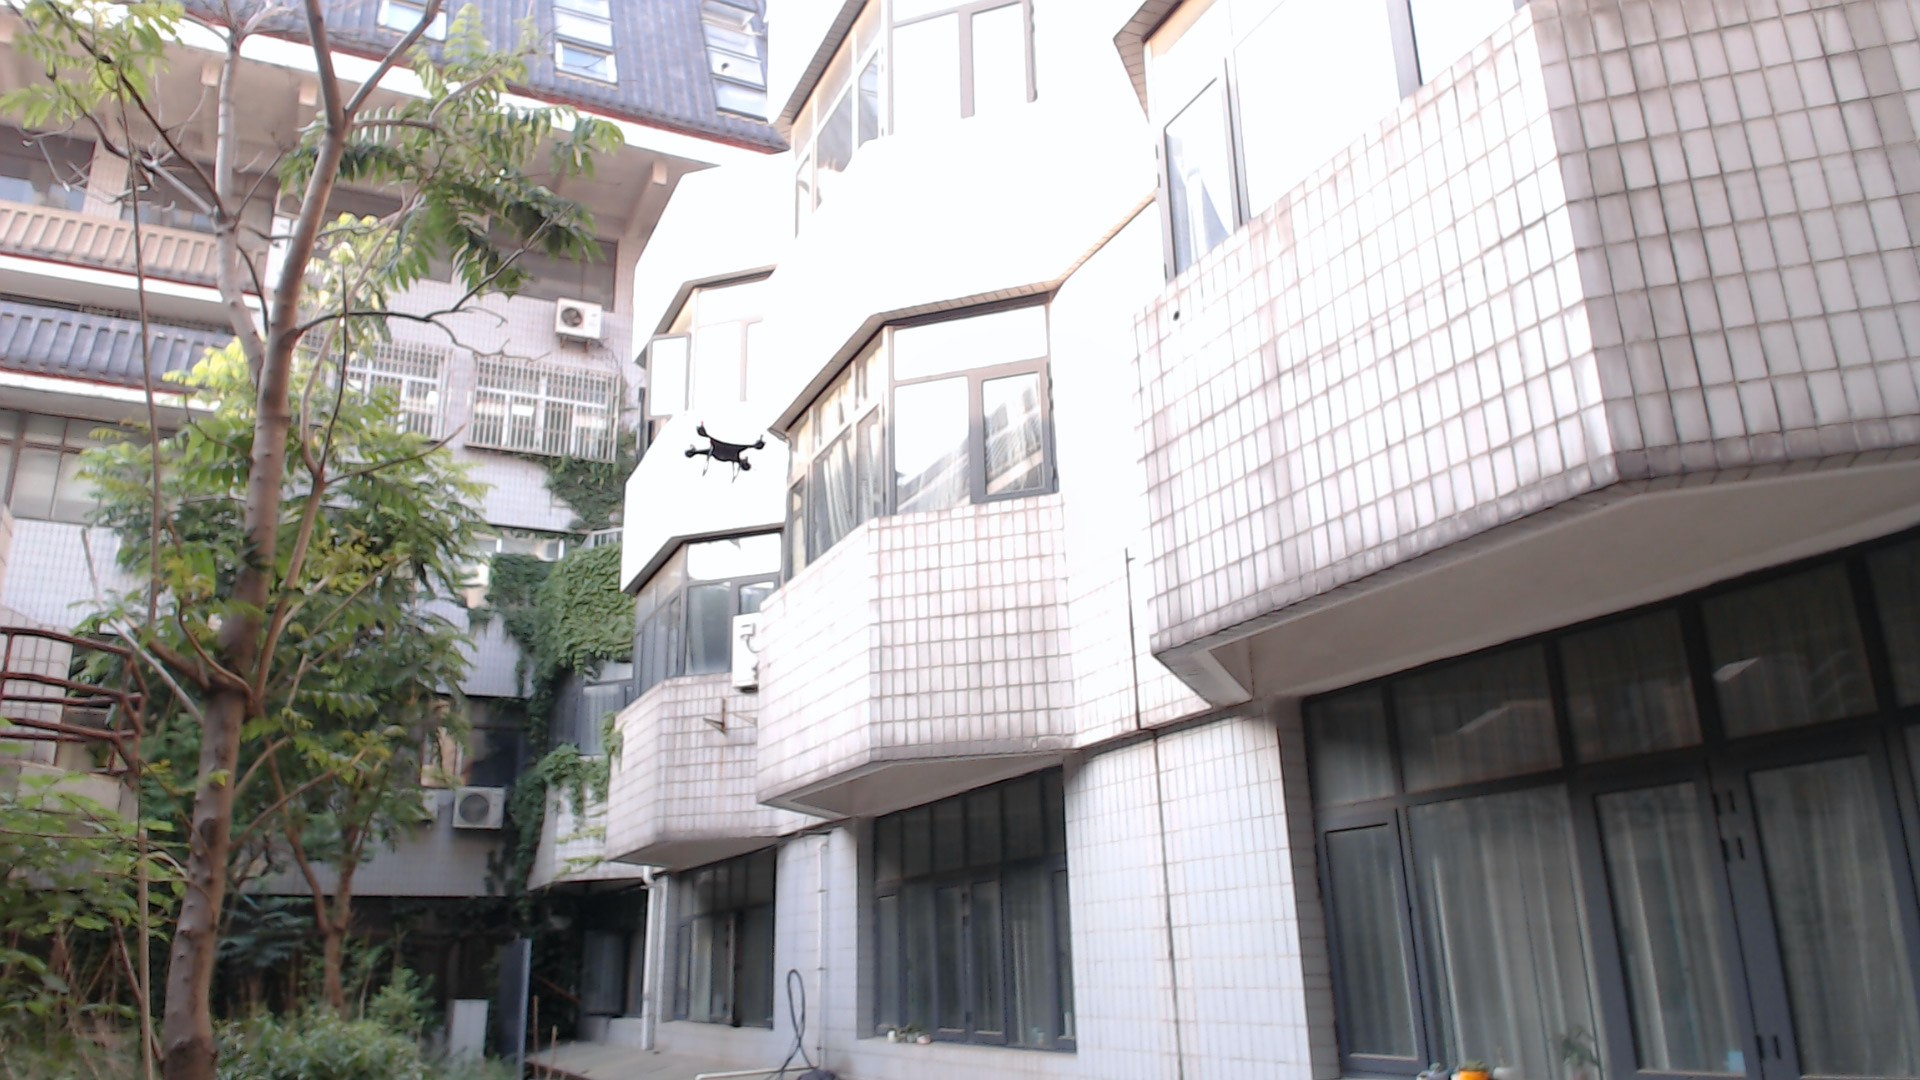drone: (658, 402, 786, 498)
